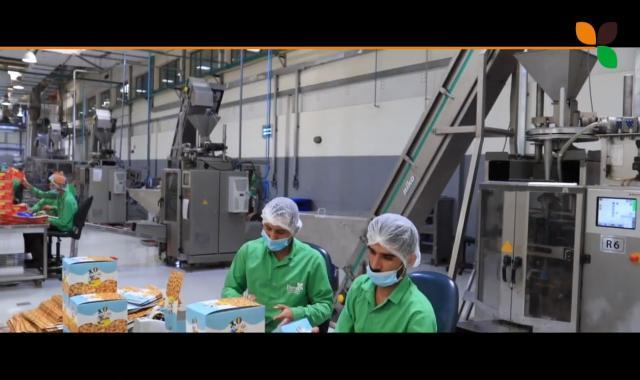Hairnet: (365, 214, 422, 273), (262, 196, 302, 237), (50, 173, 76, 191)
Mask: (361, 257, 422, 292), (257, 231, 305, 252)
No_Apron: (252, 241, 311, 332), (349, 285, 418, 346)
